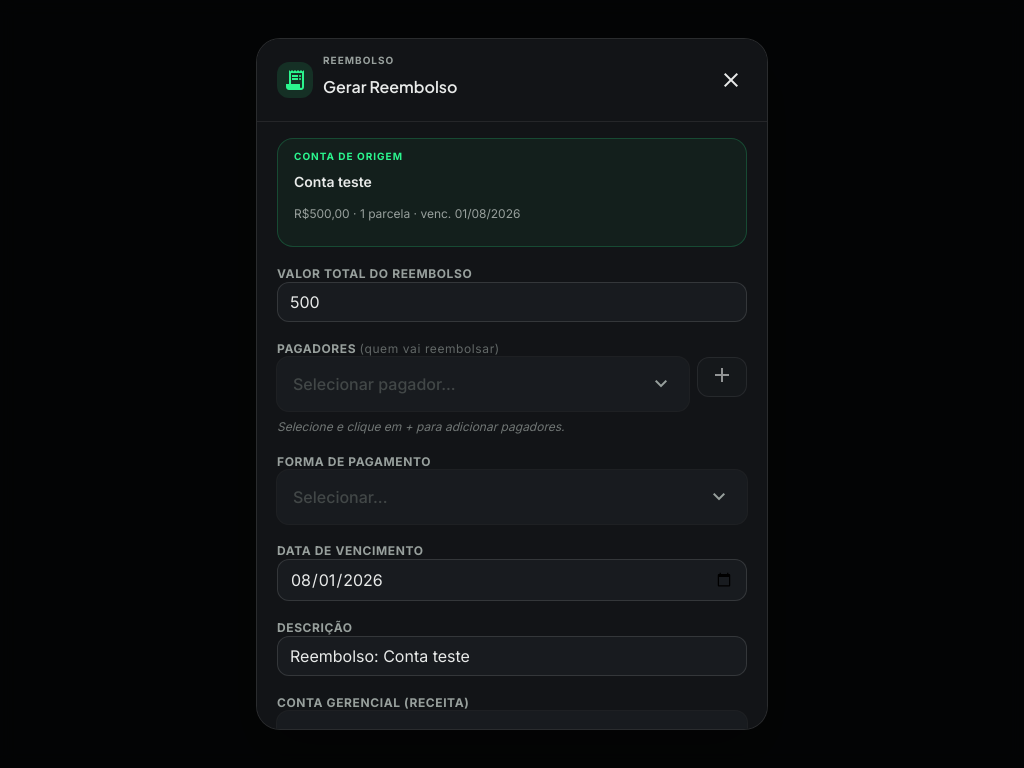
Test: ReembolsoModal › adds a pagador via ComboBox and shows the chip
Click the dropdown named "Adicionar pagador" at (483, 384), box [277,357,689,411]
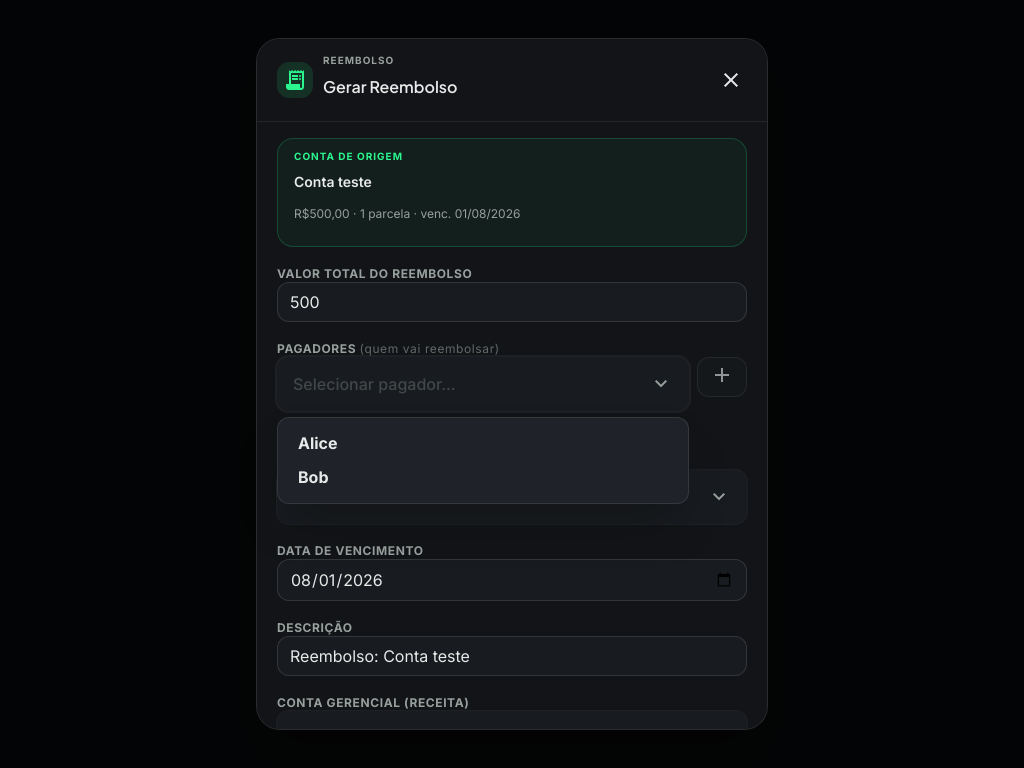
Click the button "Alice" at (318, 443), box [286,426,680,460]
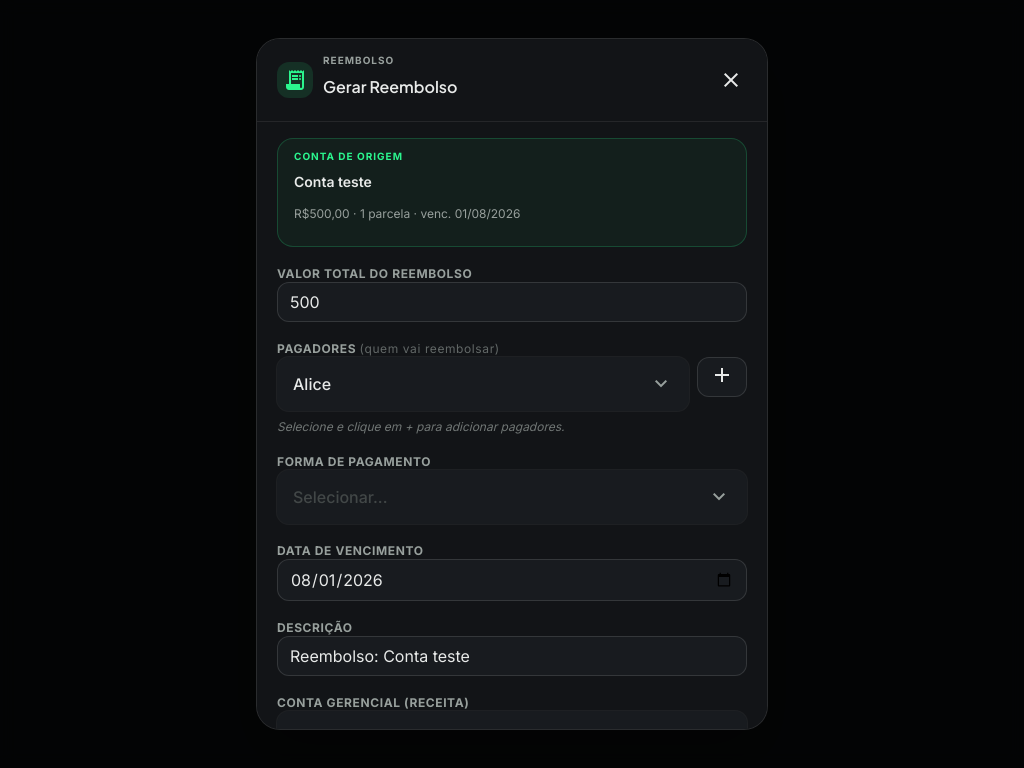
Click the button named "add" at (722, 377), box [697,357,747,397]
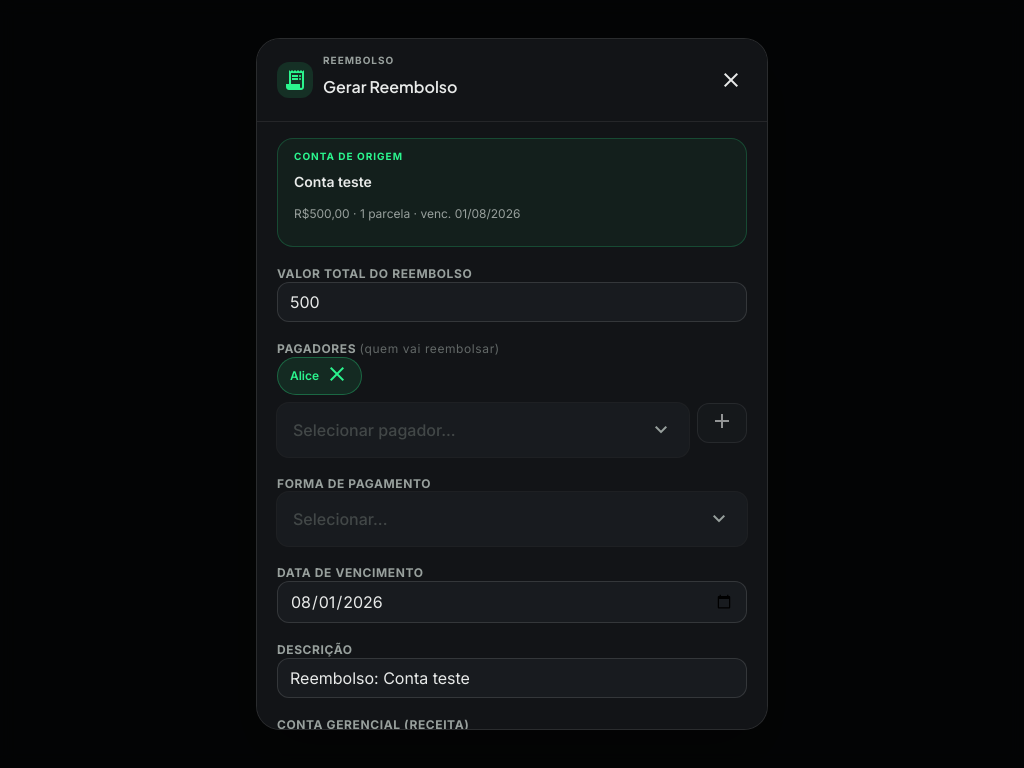
Now the text "Alice" is shown, box [277,357,362,395]
